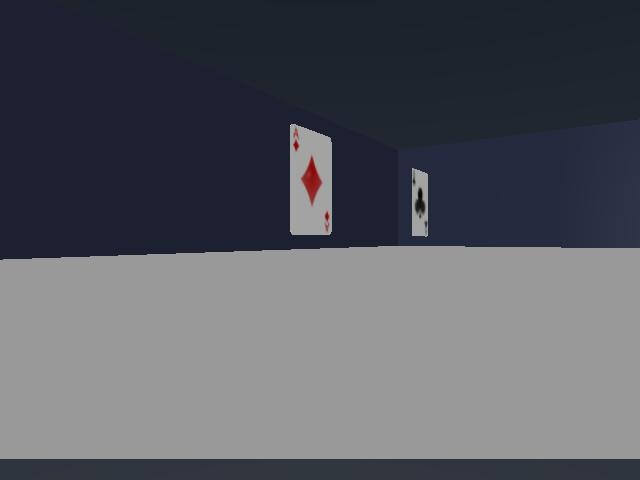club: (412, 169, 427, 236)
diamond: (290, 125, 332, 234)
